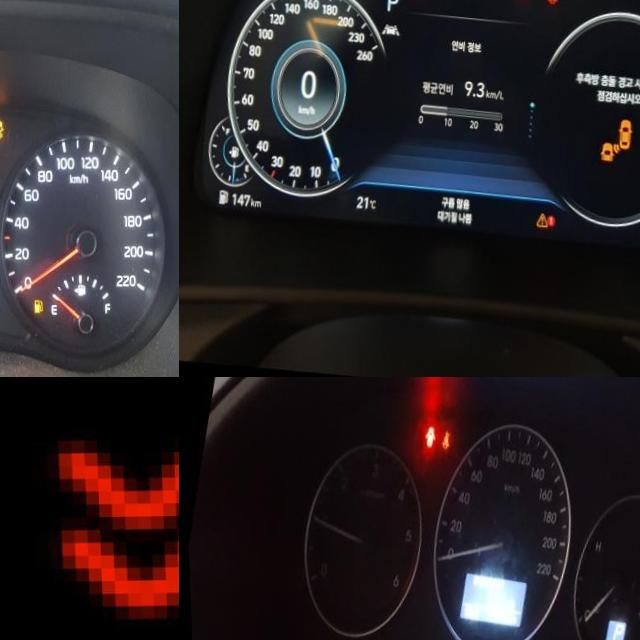Central Warning lamp: (530, 211, 544, 228)
Doors: (421, 425, 436, 447)
Engine cooling system: (20, 377, 179, 608)
